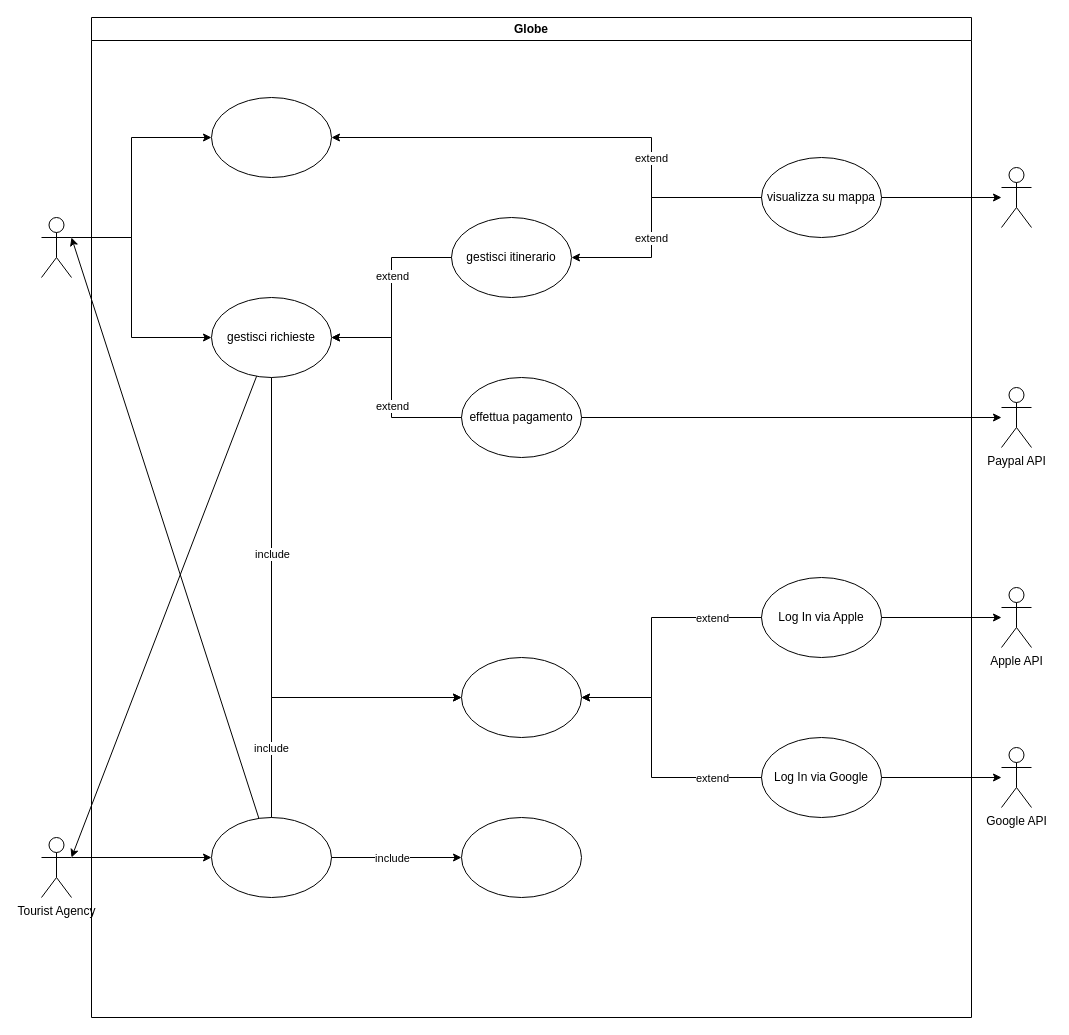
Image size: 1069x1035. Some labels were removed from this diagram. The box of each missing label's shape, as (x1, y1, x2, y2) in pixels:
Google Maps API: (1000, 166, 1032, 228)
invia itinerario: (210, 816, 332, 898)
Log In: (460, 656, 582, 738)
pianifica viaggio: (210, 96, 332, 178)
User: (40, 216, 72, 278)
verifica pagamento: (460, 816, 582, 898)
